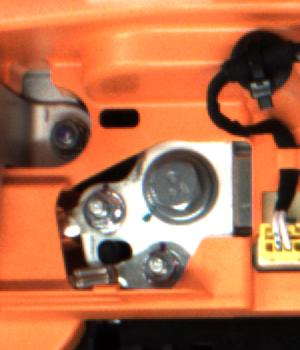nut_b: (143, 143, 220, 228)
